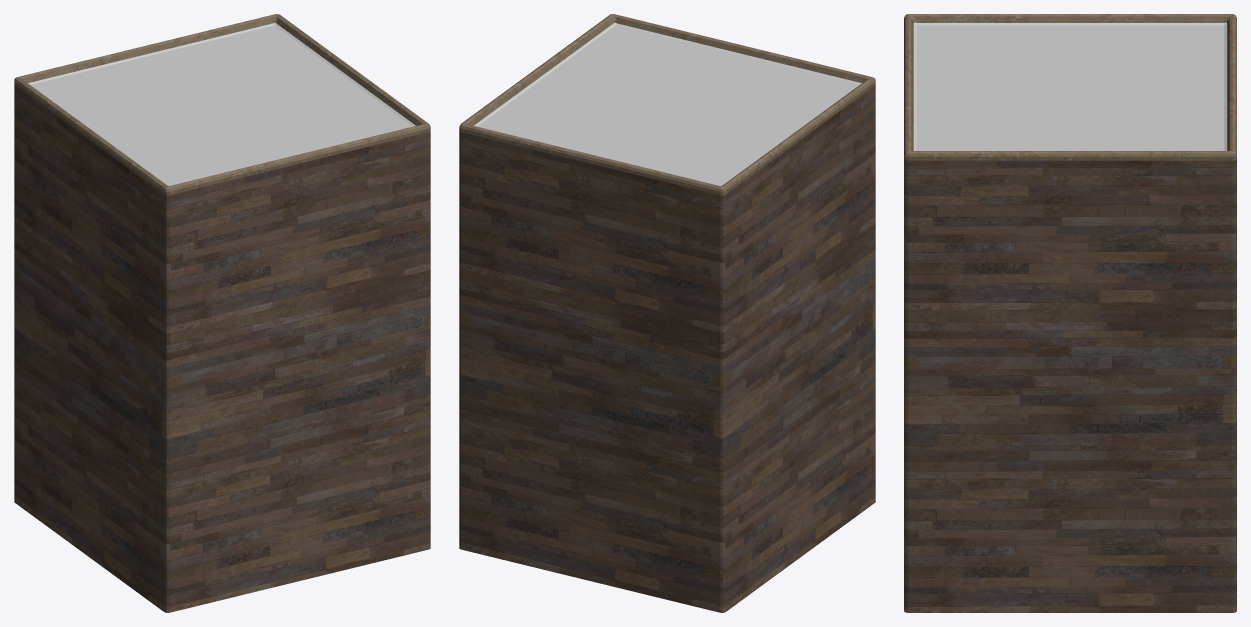
Rendered from garden_4.fbx.
The picture shows the model from 3 angles, left to right: view 1: azimuth 30°, elevation 25°; view 2: azimuth 150°, elevation 25°; view 3: azimuth 270°, elevation 25°; orthographic projection. The views are drawn at different scales.
Parts seen in each view (by area): view 1: Cube.003; view 2: Cube.003; view 3: Cube.003.
Boxes of the visible parts, bbox=[...] form: Cube.003: bbox=[14, 14, 430, 612]; Cube.003: bbox=[459, 14, 875, 612]; Cube.003: bbox=[904, 14, 1236, 612].
Bounding box in the file's own units: 200 × 305 × 200.
